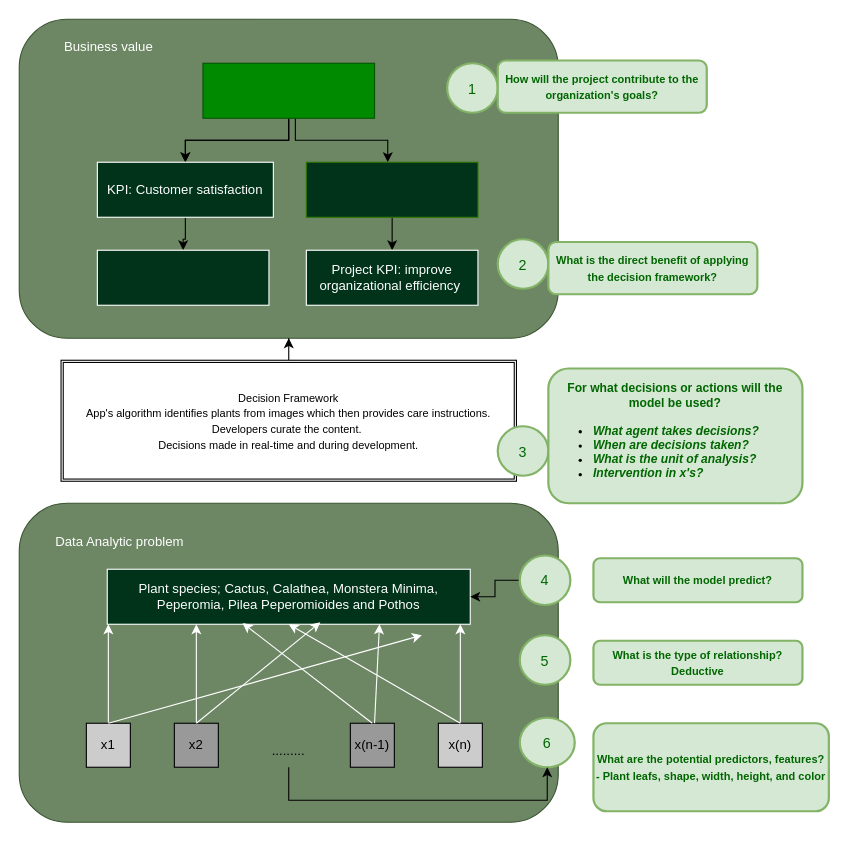
Image size: 849x842. Some labels were removed from this diagram. Each missing label, with the box of its shape:
KPI: Automation: (305, 161, 478, 217)
Organisation KPI: Value creation: (202, 62, 375, 118)
Project KPI: Increased profits: (96, 249, 269, 305)
